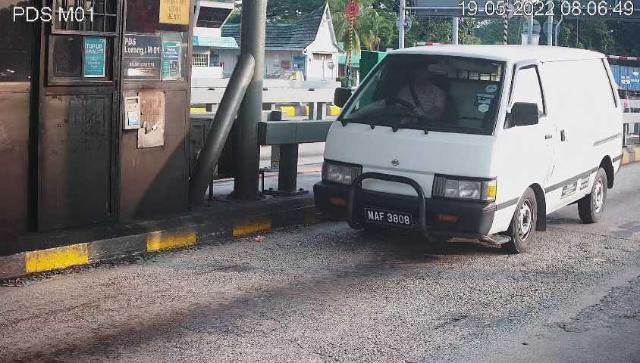License_Plate: (363, 209, 416, 231)
van: (314, 45, 624, 255)
